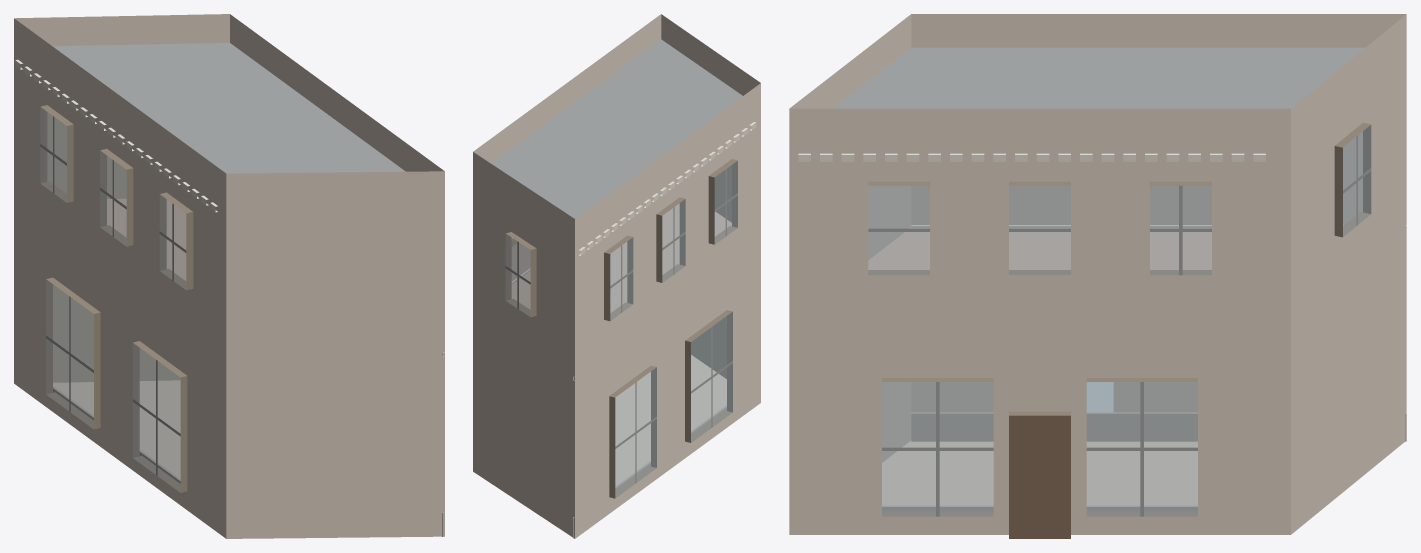
3 views of the same model, side by side, from view 1: azimuth 30°, elevation 25°; view 2: azimuth 150°, elevation 25°; view 3: azimuth 270°, elevation 25° (orthographic). The views are drawn at different scales.
Parts seen in each view (by area): view 1: S-41; view 2: S-41; view 3: S-41.
Part boxes in pixels (box(x1,y1,x2,y2)): S-41: box(14, 14, 444, 538); S-41: box(473, 14, 760, 538); S-41: box(789, 14, 1406, 538).
Size of the model in its own units: 3.92 by 7.6 by 9.98.
